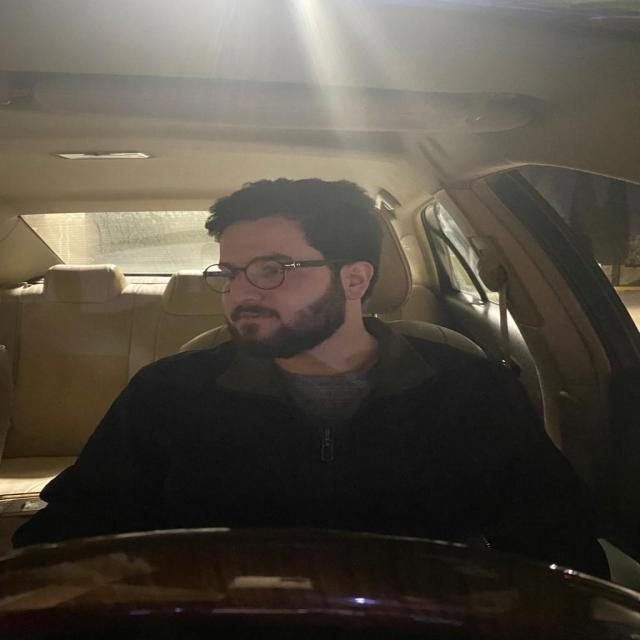LeftRight: (185, 169, 401, 384)
